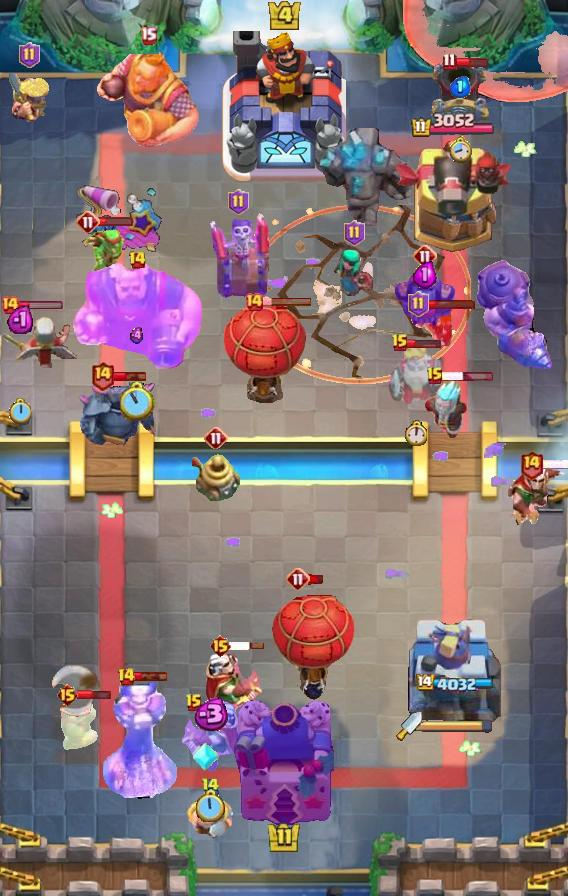arrows: (9, 73, 49, 123)
bar: (405, 611, 501, 731)
cannon-cart: (271, 582, 357, 700), (224, 301, 308, 403)
cannoneer-tower: (317, 128, 415, 230)
electro-dragon: (101, 677, 179, 805)
electro-spirit: (189, 697, 230, 731), (7, 304, 33, 334), (413, 260, 437, 289), (449, 76, 470, 98), (129, 328, 145, 344)
elixir: (121, 383, 156, 422), (194, 789, 225, 825), (448, 135, 472, 163), (404, 420, 427, 446), (9, 398, 31, 424)
elixir-golem-small: (393, 267, 457, 329)
emote: (261, 297, 313, 308), (442, 371, 494, 382), (12, 301, 63, 312), (426, 299, 476, 310), (76, 688, 112, 701), (454, 56, 490, 68), (406, 337, 442, 349), (112, 370, 148, 382), (98, 217, 134, 228), (133, 670, 168, 681), (229, 641, 265, 651), (540, 458, 567, 469), (307, 574, 325, 585)
flying-machine: (58, 700, 102, 752)
giant-skeleton: (95, 48, 201, 150)
giant-snowball: (83, 225, 127, 279)
goblin-drill: (192, 453, 240, 501)
goblin-giant: (186, 796, 234, 839)
golemite: (75, 379, 159, 451)
guard: (247, 204, 471, 384)
hog-rider: (409, 303, 455, 349)
king-tower: (222, 31, 346, 181), (234, 700, 334, 826)
king-tower-bar: (422, 719, 494, 733)
lightning: (67, 260, 210, 374)
mortar: (416, 377, 478, 443)
mortar-evolution: (387, 341, 443, 407)
musketeer: (429, 58, 491, 126)
pad_2: (192, 741, 220, 773)
phoenix-egg: (401, 0, 568, 104)
poison: (0, 310, 86, 382)
royal-giant: (48, 664, 104, 718)
selected: (410, 112, 496, 140), (414, 674, 494, 694)
skeleton-king: (490, 461, 568, 525), (205, 650, 265, 726), (179, 700, 239, 776)
skeleton-king-bar: (207, 209, 269, 299)
text: (89, 361, 114, 392), (520, 448, 545, 479), (76, 210, 100, 234), (413, 244, 437, 268), (204, 426, 228, 450), (286, 567, 310, 591), (209, 634, 232, 658), (56, 683, 79, 707), (20, 42, 41, 68), (227, 189, 248, 215), (343, 220, 364, 246), (407, 291, 428, 317), (244, 292, 264, 312), (0, 295, 20, 315), (116, 667, 136, 687), (129, 250, 148, 270), (391, 333, 409, 353), (426, 366, 444, 386), (185, 693, 203, 713), (200, 777, 219, 795), (139, 27, 156, 46), (442, 52, 457, 71)
tower-bar: (392, 138, 514, 256)
witch: (332, 249, 376, 299)
wizard: (473, 258, 555, 372)
